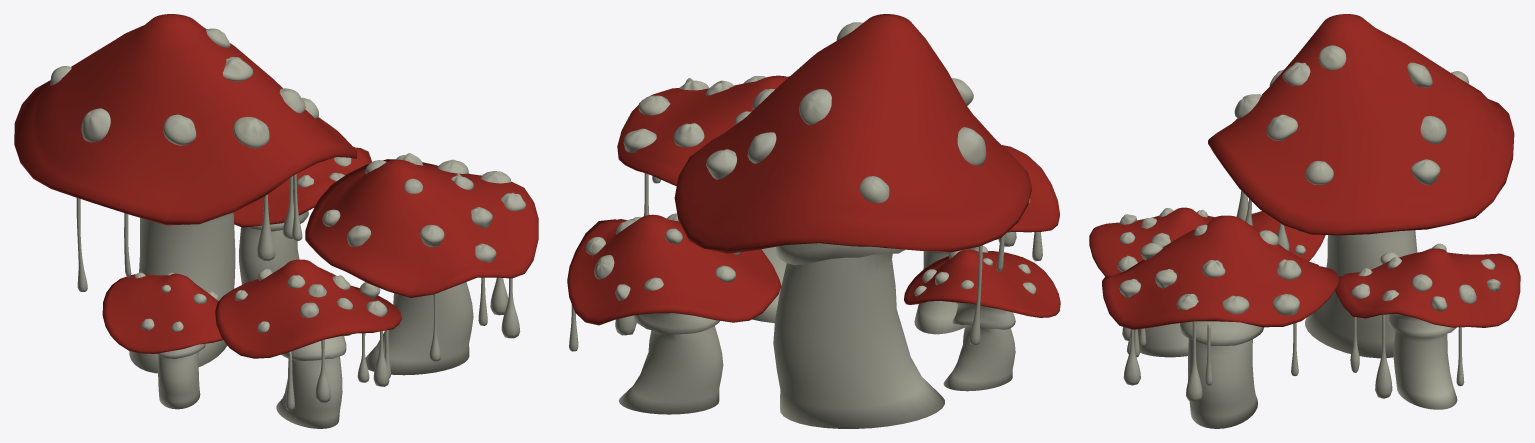
Rendered from mantar-3.fbx.
The picture shows the model from 3 angles, left to right: view 1: azimuth 30°, elevation 25°; view 2: azimuth 150°, elevation 25°; view 3: azimuth 270°, elevation 25°; orthographic projection. The views are drawn at different scales.
Parts seen in each view (by area): view 1: mantar.069; view 2: mantar.069; view 3: mantar.069.
Boxes of the visible parts, bbox=[...] form: mantar.069: bbox=[14, 14, 538, 428]; mantar.069: bbox=[567, 14, 1060, 428]; mantar.069: bbox=[1089, 14, 1520, 428].
Bounding box in the file's own units: 115 × 93.2 × 116.
